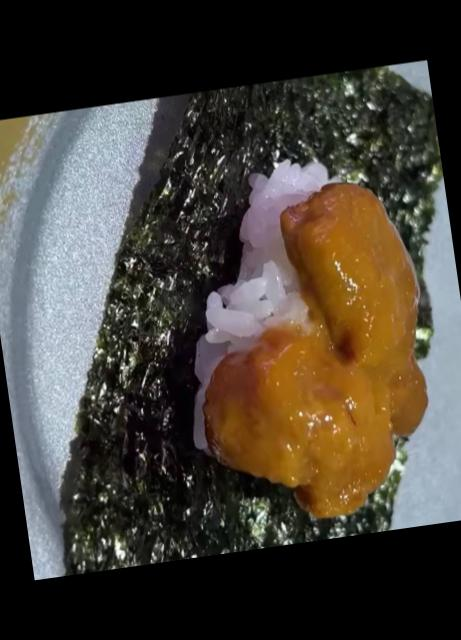janwhite: (0, 59, 461, 580)
